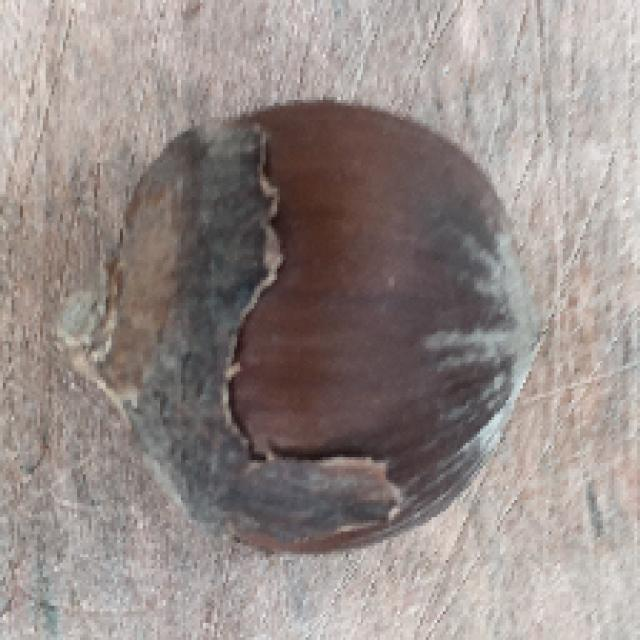damagedHazelnut: (81, 101, 539, 554)
